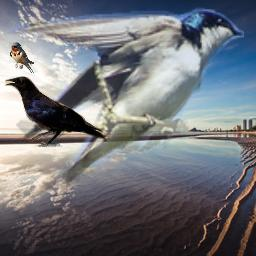Crow: (5, 76, 107, 147)
Swallow: (5, 6, 244, 189), (9, 42, 34, 74)
